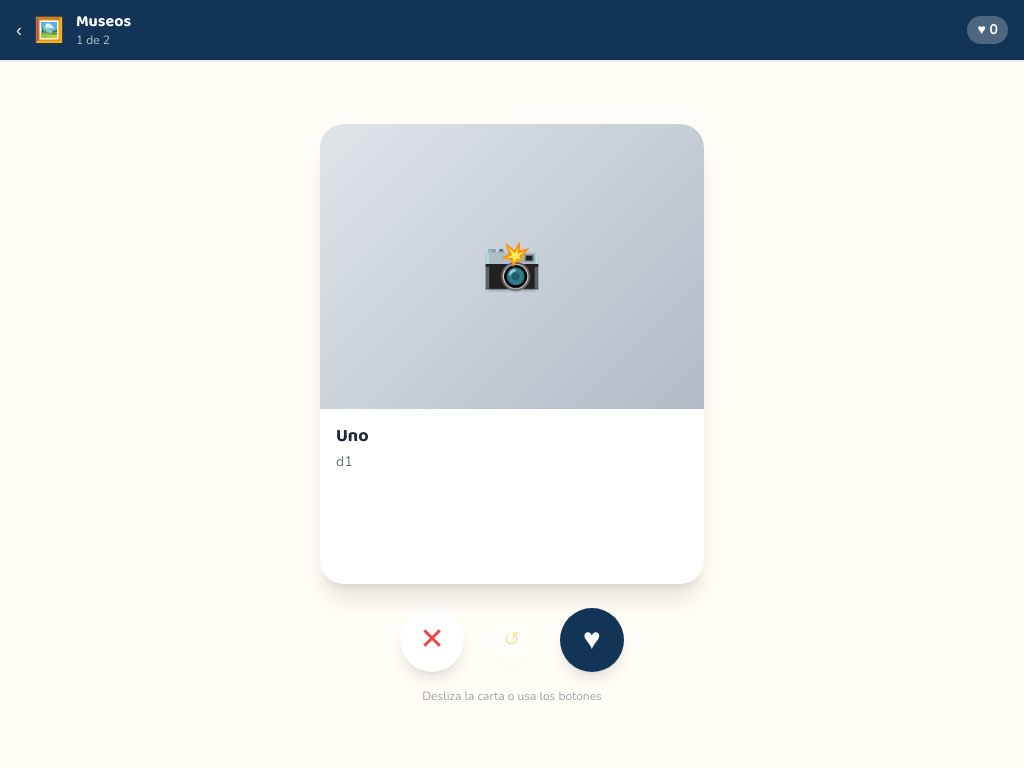
Test: SwipeDeck › Deshacer inhabilitado en la primera; tras avanzar retrocede
The image size is (1024, 768).
Check: the button named "Deshacer" is disabled, box x1=488 y1=616 x2=536 y2=664
Click the button named "Me gusta" at (592, 640), box x1=560 y1=608 x2=624 y2=672
Wait 300 ms
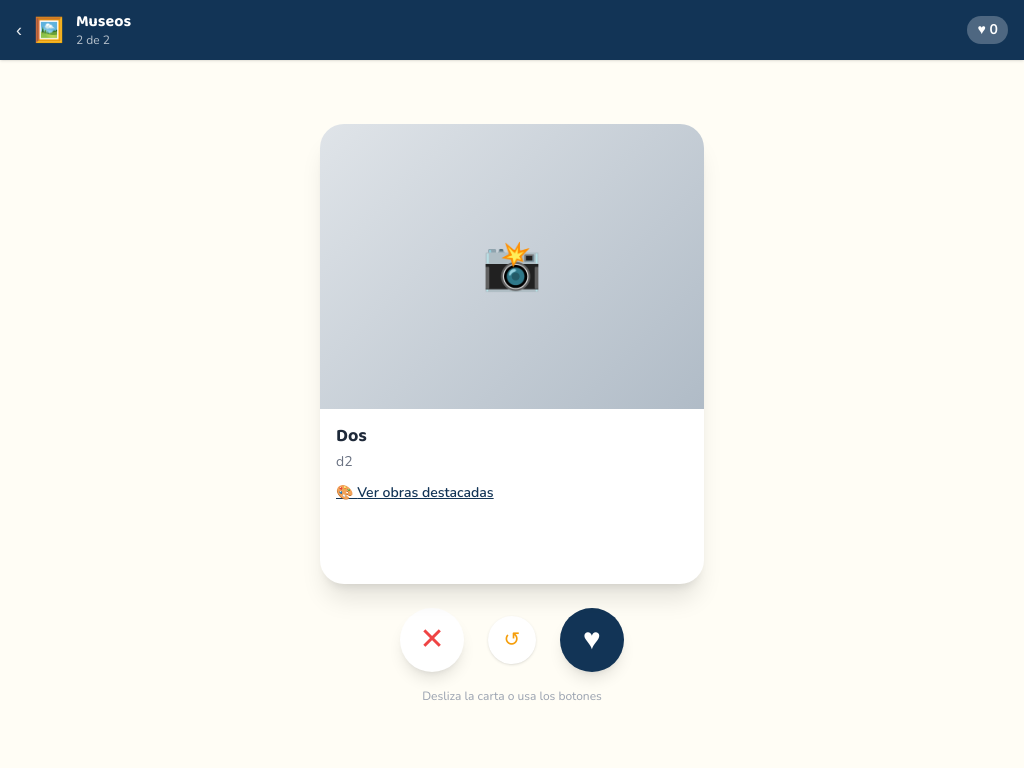
Check: the text "2 de 2" is shown, box x1=76 y1=32 x2=110 y2=48
Click the button named "Deshacer" at (512, 640), box x1=488 y1=616 x2=536 y2=664
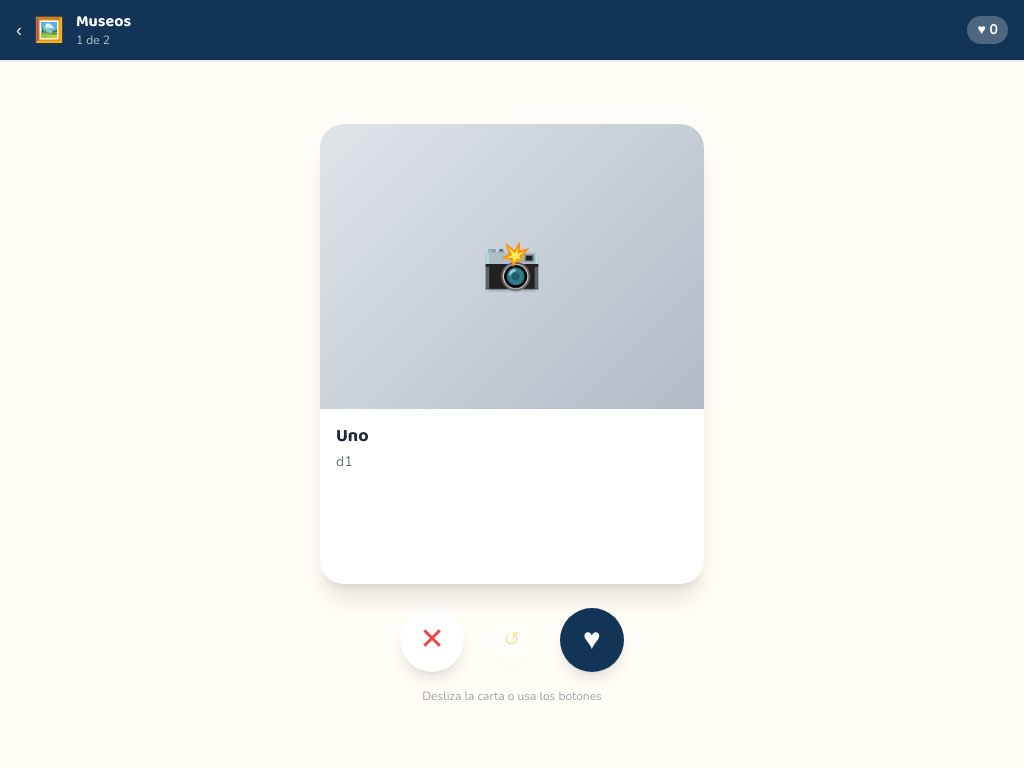
Check: the text "1 de 2" is shown, box x1=76 y1=32 x2=110 y2=48
